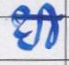i_matra: (42, 3, 59, 49)
